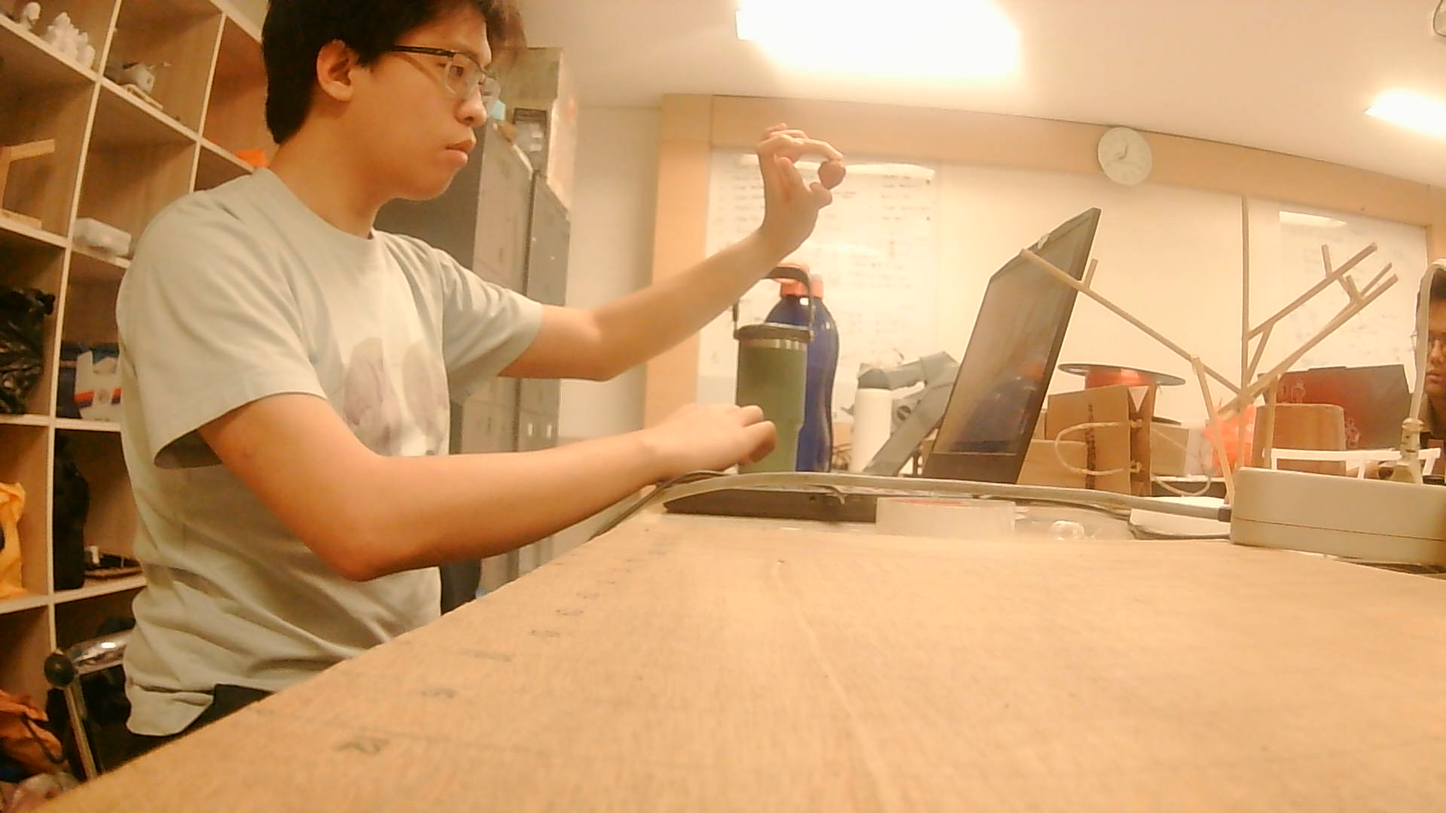strawberry: (813, 154, 845, 185)
